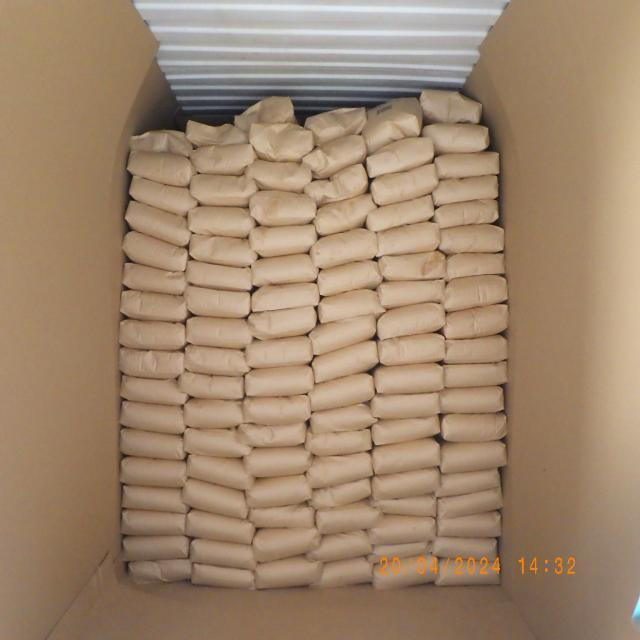gunny_bag: (364, 99, 424, 156), (124, 200, 190, 246), (312, 338, 379, 382), (310, 228, 380, 270), (364, 138, 434, 180), (304, 135, 369, 180), (370, 165, 438, 208), (310, 314, 379, 356), (248, 121, 316, 163), (121, 230, 188, 272), (129, 176, 199, 216), (306, 162, 370, 205), (309, 372, 376, 413), (182, 477, 248, 518), (377, 302, 447, 340), (371, 438, 441, 476), (184, 452, 254, 490), (372, 552, 440, 591), (315, 194, 378, 236), (367, 194, 436, 232), (441, 273, 508, 312), (127, 152, 198, 188), (307, 450, 374, 488), (252, 526, 322, 562), (314, 500, 384, 536), (249, 190, 317, 227), (318, 260, 384, 298), (307, 109, 370, 148), (373, 362, 445, 396), (438, 440, 506, 476), (376, 221, 442, 258), (243, 364, 314, 398), (184, 510, 255, 544), (444, 302, 511, 338), (118, 400, 186, 435), (246, 305, 316, 339), (187, 234, 257, 268), (246, 473, 314, 508), (244, 336, 314, 370), (244, 444, 314, 478), (248, 224, 318, 258), (187, 172, 257, 206), (242, 392, 312, 426), (119, 290, 188, 324), (251, 254, 320, 288), (255, 554, 322, 589), (118, 428, 186, 462), (318, 288, 386, 322), (188, 536, 256, 570), (372, 466, 442, 499), (186, 317, 253, 351), (119, 456, 188, 489), (379, 333, 447, 366), (119, 318, 187, 351), (188, 204, 256, 237), (186, 286, 252, 320), (372, 414, 442, 446), (236, 94, 298, 130), (421, 122, 490, 154), (183, 428, 252, 460), (309, 403, 378, 435), (246, 160, 315, 192), (421, 90, 484, 125), (308, 529, 374, 562), (437, 486, 503, 519), (117, 346, 185, 378), (439, 410, 507, 442), (181, 344, 249, 376), (378, 251, 448, 282), (118, 375, 188, 406), (185, 260, 252, 292), (251, 281, 320, 312), (123, 264, 189, 296), (190, 146, 258, 177), (309, 476, 372, 509), (439, 224, 506, 255), (378, 278, 447, 308), (433, 198, 499, 229), (432, 173, 498, 204), (434, 555, 500, 586), (436, 467, 502, 498), (120, 484, 188, 514), (314, 556, 374, 590), (370, 514, 438, 544), (439, 384, 506, 414), (371, 392, 442, 420), (184, 398, 244, 431), (444, 334, 509, 364), (178, 371, 244, 400), (120, 534, 188, 562), (307, 428, 375, 456), (238, 422, 308, 449), (434, 151, 499, 180), (120, 508, 186, 536), (436, 511, 502, 539), (192, 562, 257, 590), (442, 362, 508, 389), (187, 120, 250, 148), (128, 130, 193, 157), (249, 504, 316, 530), (442, 252, 504, 280), (372, 493, 440, 518), (431, 537, 498, 561), (128, 558, 192, 582), (370, 542, 438, 564)
